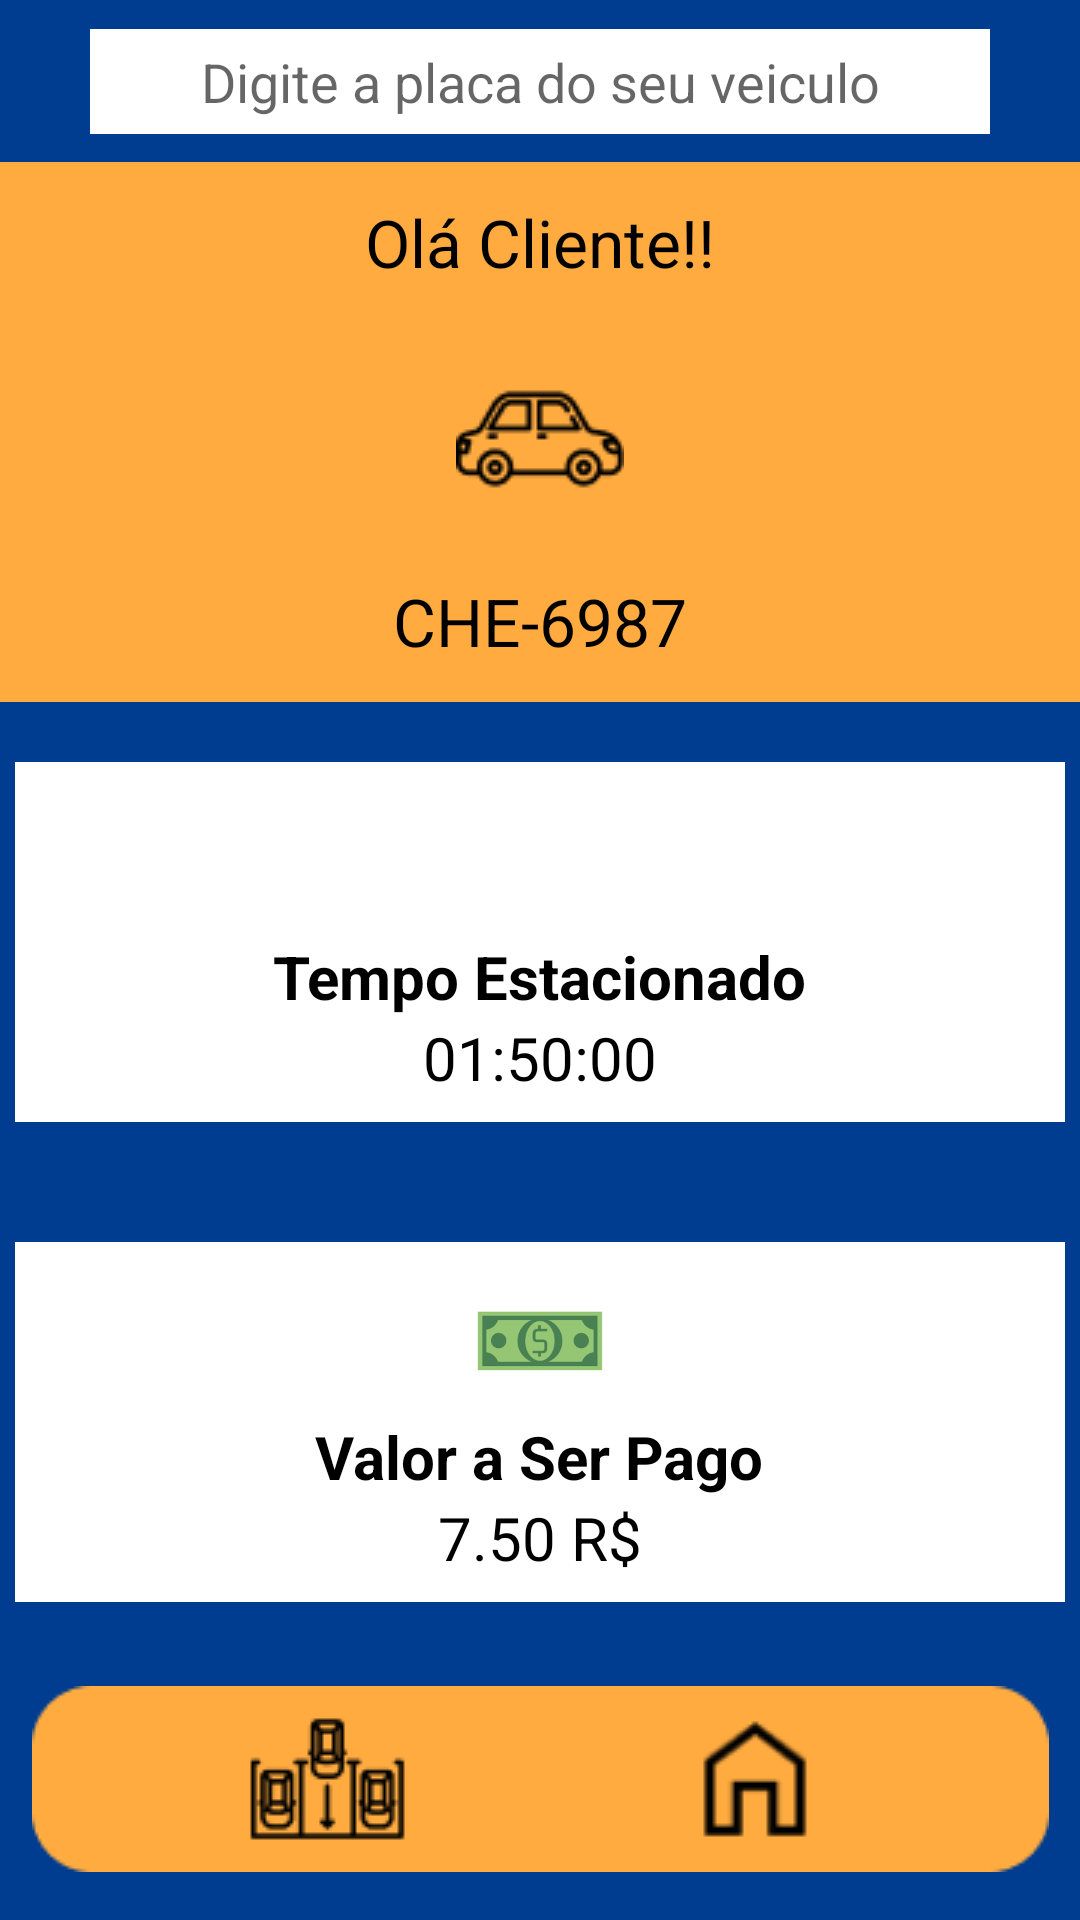

Icon bounding boxes for this 1080 × 1920 phone screenshot, format bbox=(x1, y1, x2, y2):
medio porte: bbox=(456, 390, 624, 488)
money: bbox=(477, 1311, 602, 1370)
